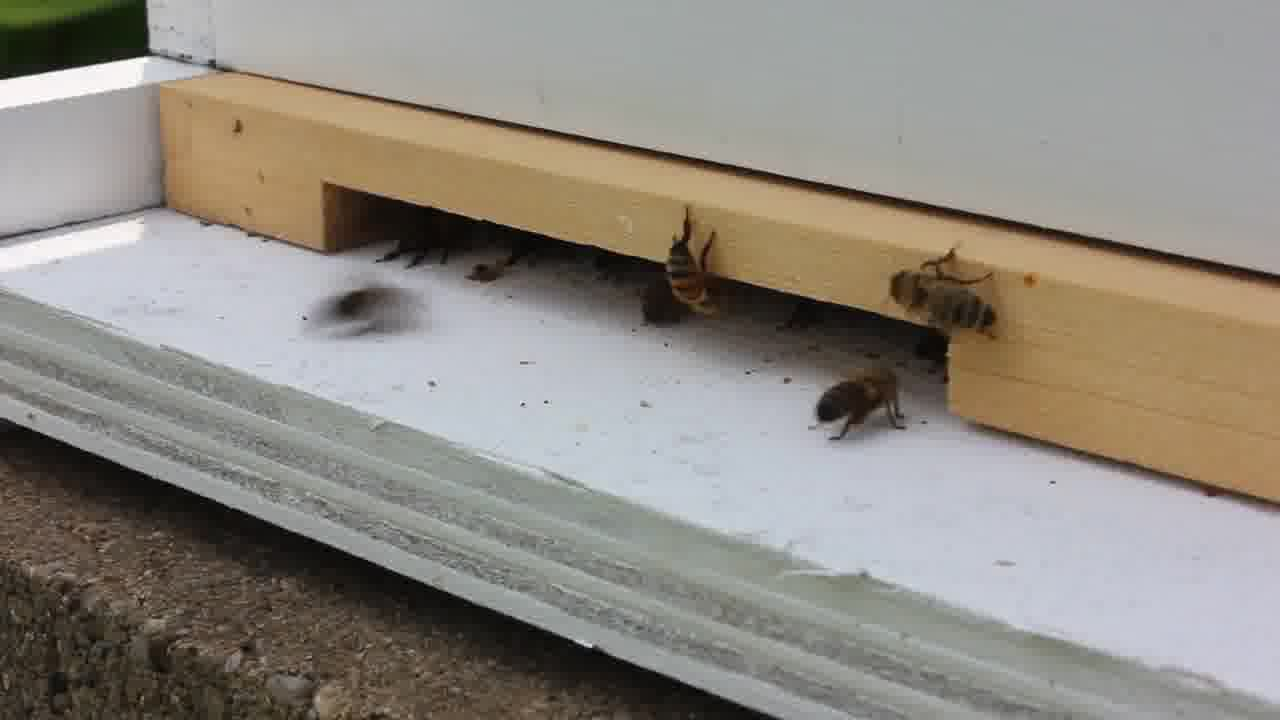pollen: (821, 366, 905, 446)
